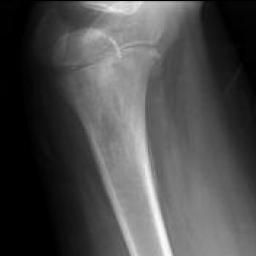cancer: (131, 122, 154, 195)
